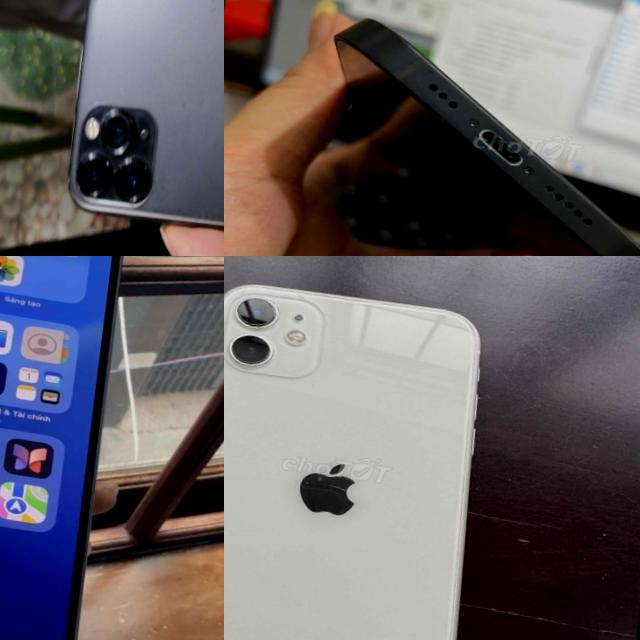scratch: (254, 279, 469, 320), (226, 287, 282, 335)
